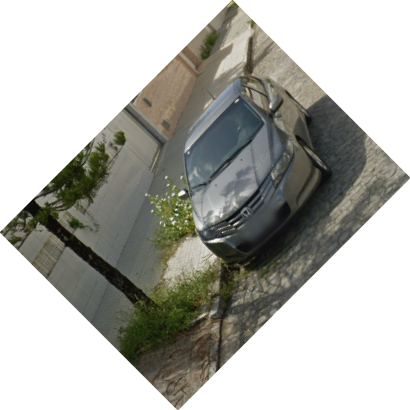car: (173, 73, 337, 269)
